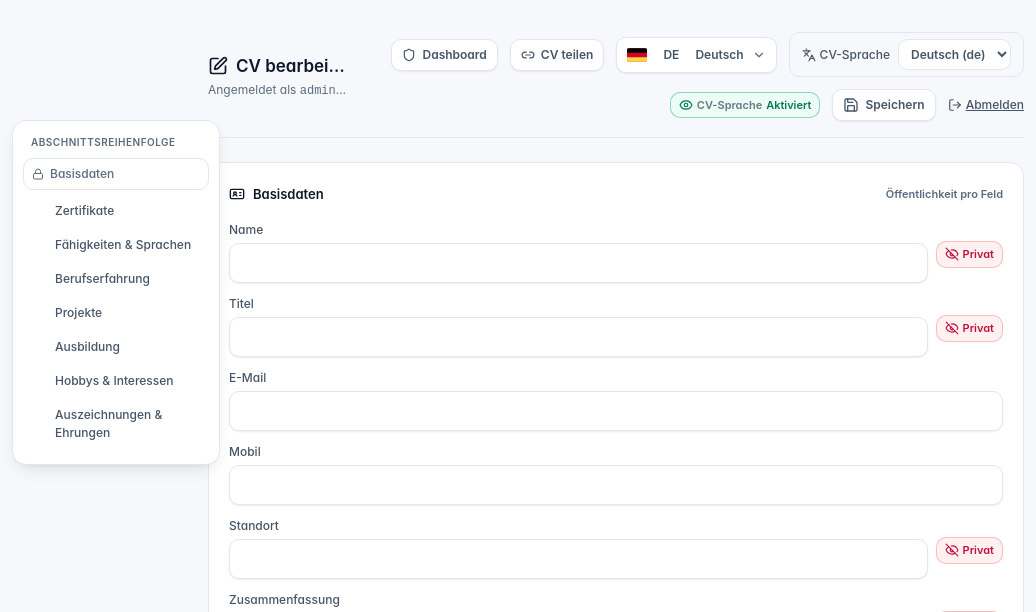
Test: AdminEditorRoute › LanguageSelector changes interface language without changing CV locale
Step 1. Select "magyar (hu)" in the dropdown with id "admin-editor-locale-select" → [954, 54], box [898,39,1011,70]
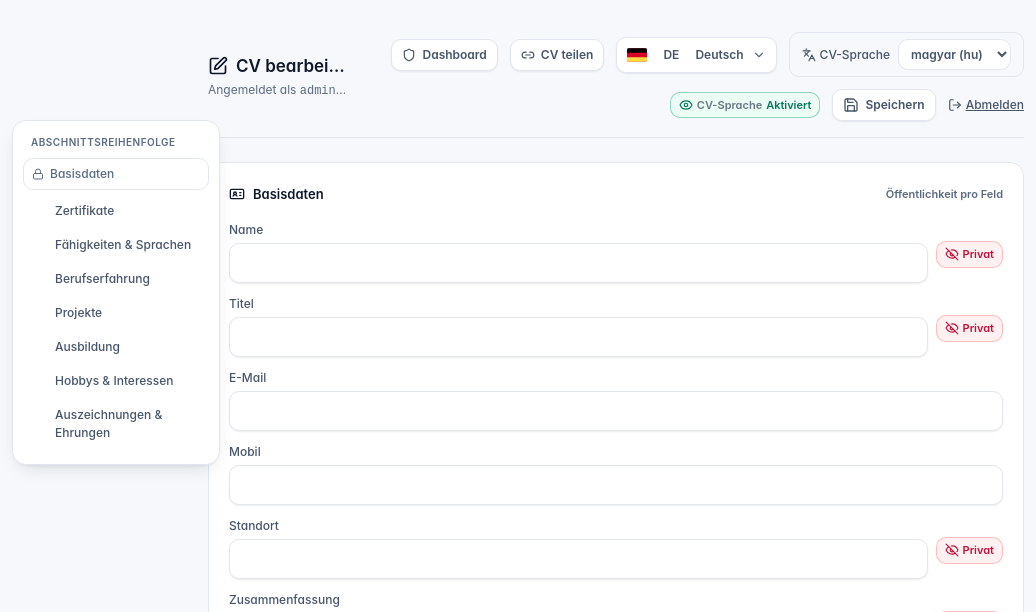
Step 2. Click the button "DE Deutsch" → [696, 54], box [616,36,777,72]
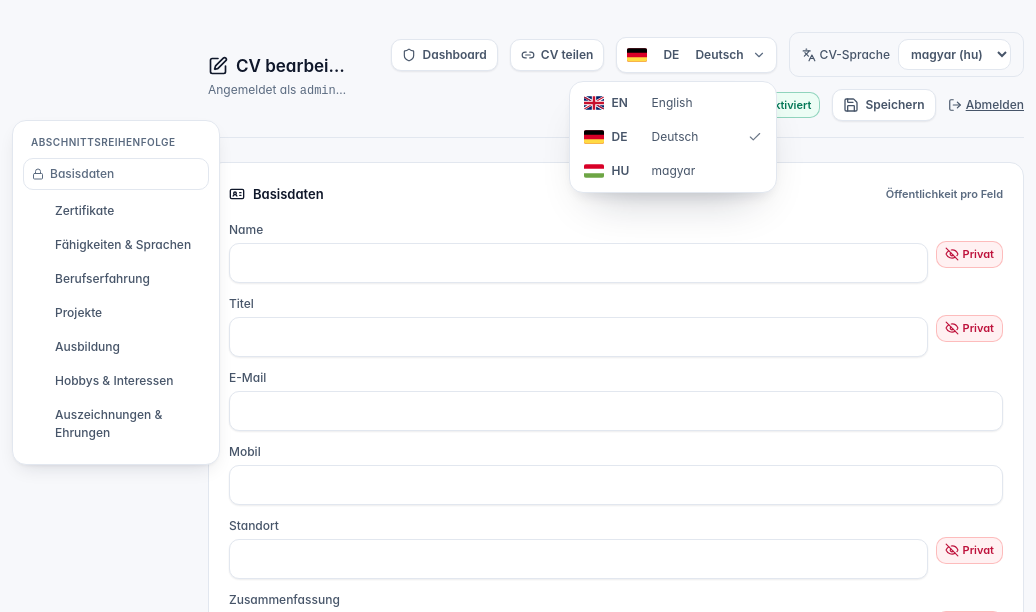
expect the menu item "HU magyar" is shown: met
Step 3. Click the menu item "HU magyar" → [673, 170], box [574,154,772,188]
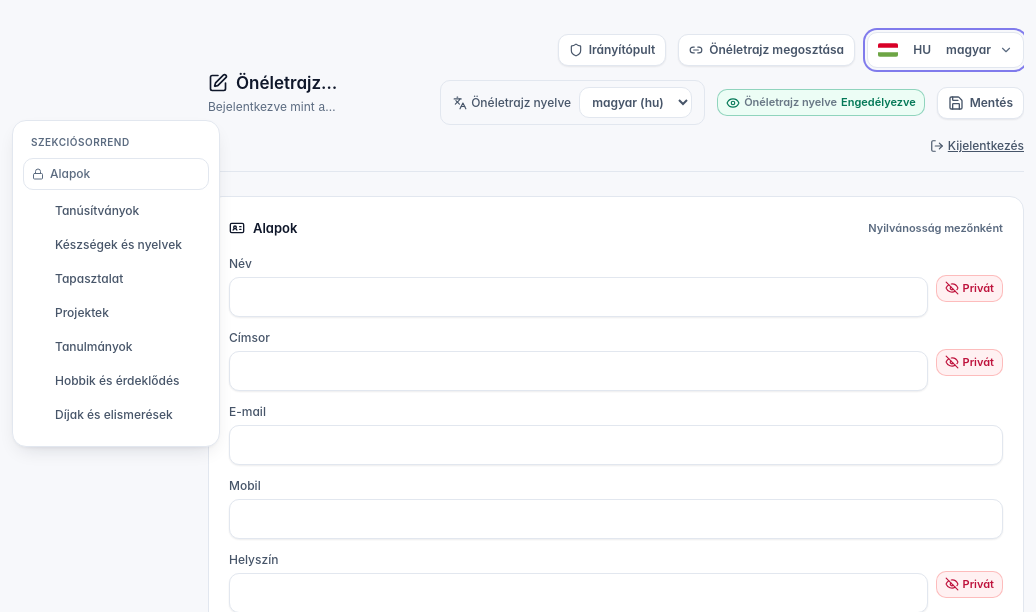
expect the text "Önéletrajz szerkesztése" is shown: met, box [236,70,340,96]
